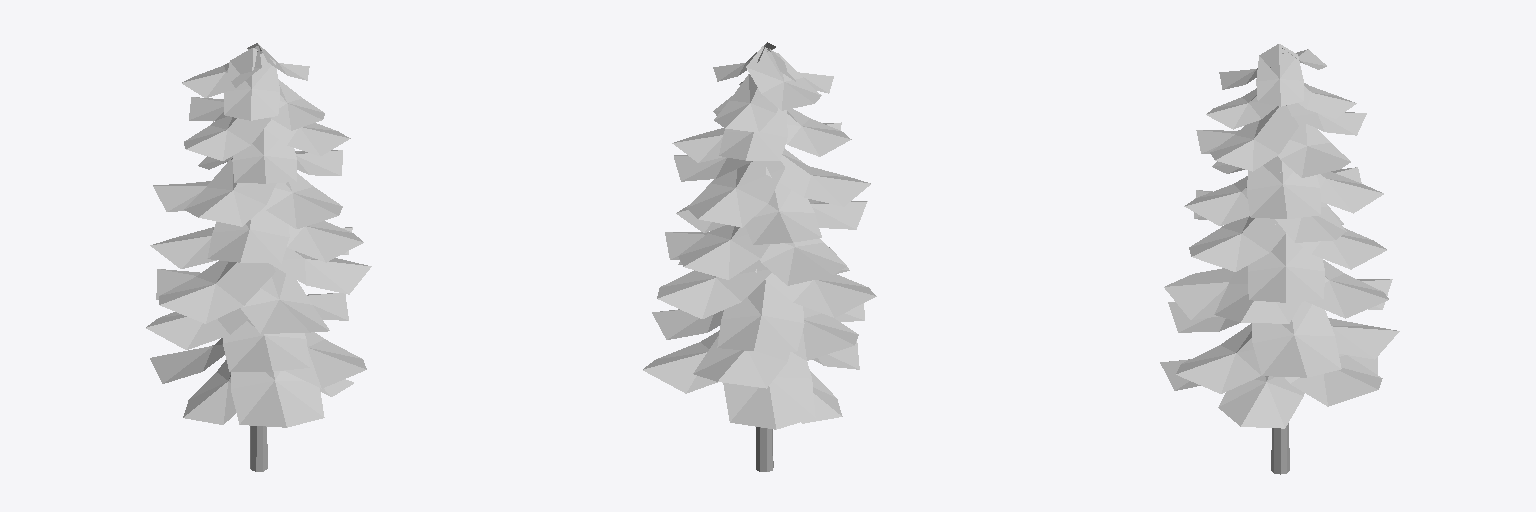
Rendered from pinetree.obj.
3 views of the same model, side by side, from view 1: azimuth 30°, elevation 25°; view 2: azimuth 150°, elevation 25°; view 3: azimuth 270°, elevation 25° (orthographic).
Visible parts, largest first — view 1: pinetree_2; view 2: pinetree_2; view 3: pinetree_2.
Boxes of the visible parts, x1=… form: pinetree_2: x1=146, y1=43, x2=371, y2=471; pinetree_2: x1=643, y1=42, x2=876, y2=471; pinetree_2: x1=1160, y1=44, x2=1399, y2=474.
Bounding box in the file's own units: 10.26 × 20.32 × 10.38.